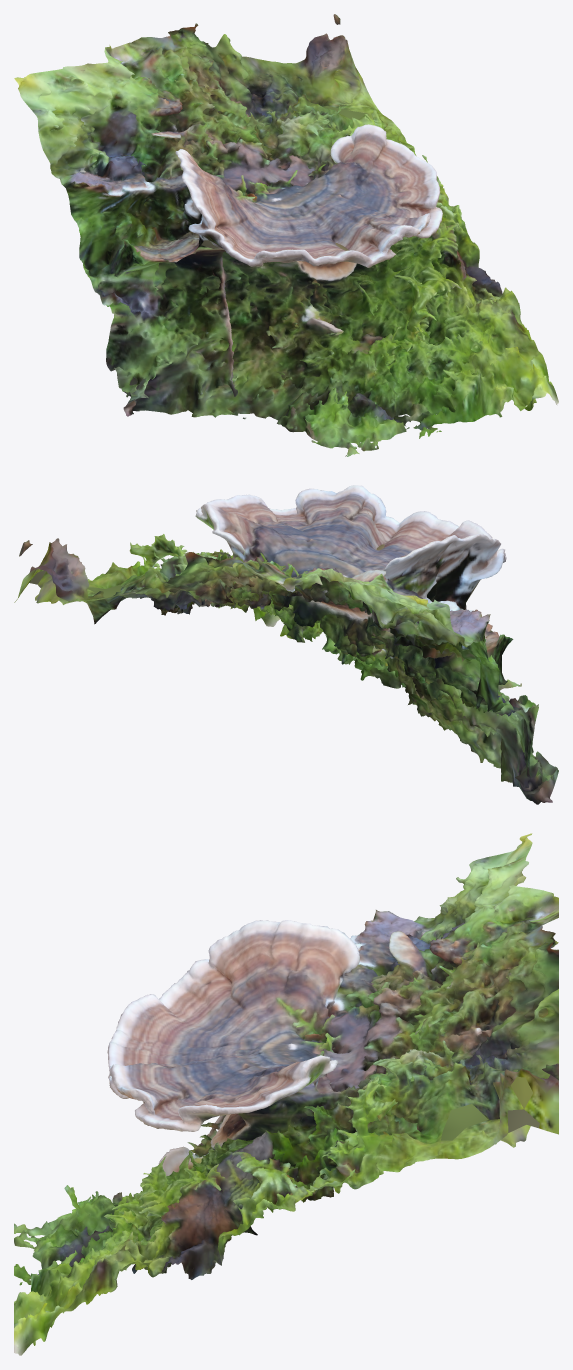
The model's file is turkey.glb.
3 renders of one model, top to bottom at view 1: azimuth 30°, elevation 25°; view 2: azimuth 150°, elevation 25°; view 3: azimuth 270°, elevation 25°, orthographic. The views are drawn at different scales.
Visible parts, largest first — view 1: Object_5, Object_6, Object_4, Object_7; view 2: Object_6, Object_4, Object_5, Object_7; view 3: Object_4, Object_6, Object_5, Object_7.
Boxes of the visible parts, <box> form: Object_5: <box>59,169,558,453</box>; Object_6: <box>14,14,482,456</box>; Object_4: <box>19,23,472,343</box>; Object_7: <box>217,110,469,269</box>; Object_6: <box>14,485,558,804</box>; Object_4: <box>50,496,506,660</box>; Object_5: <box>177,530,524,782</box>; Object_7: <box>140,495,332,621</box>; Object_4: <box>108,837,558,1243</box>; Object_6: <box>14,833,558,1285</box>; Object_5: <box>14,911,435,1355</box>; Object_7: <box>161,997,429,1234</box>.
Bounding box in the file's own units: 0.1425 × 0.103 × 0.16.
1 material, 1 textured.
